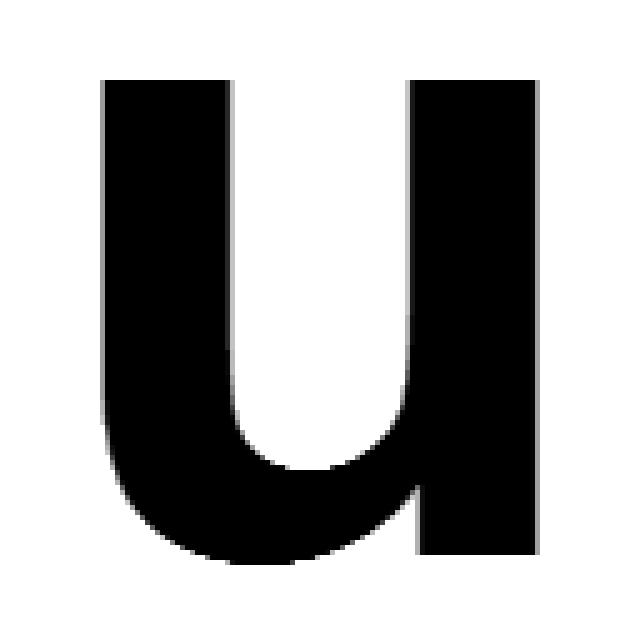U: (95, 70, 540, 565)
